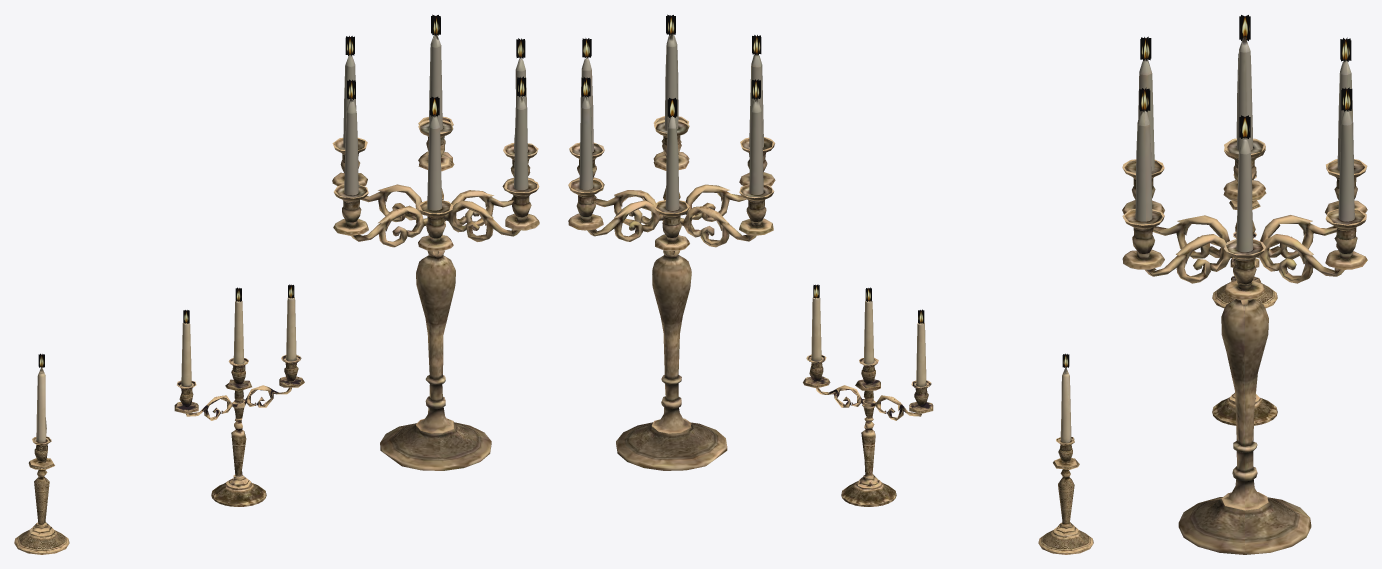
The model's file is candleholders.glb.
The picture shows the model from 3 angles, left to right: view 1: azimuth 30°, elevation 25°; view 2: azimuth 150°, elevation 25°; view 3: azimuth 270°, elevation 25°; orthographic projection. The views are drawn at different scales.
Parts seen in each view (by area): view 1: brass_candleholder_03, brass_candleholder_02, brass_candleholder_01; view 2: brass_candleholder_03, brass_candleholder_02, brass_candleholder_01; view 3: brass_candleholder_03, brass_candleholder_02, brass_candleholder_01.
Boxes of the visible parts, x1,y1,x2,y2 form: brass_candleholder_03: [332, 14, 539, 470]; brass_candleholder_02: [174, 284, 304, 506]; brass_candleholder_01: [14, 353, 69, 554]; brass_candleholder_03: [568, 14, 775, 470]; brass_candleholder_02: [803, 284, 933, 506]; brass_candleholder_01: [1038, 353, 1093, 554]; brass_candleholder_03: [1122, 15, 1367, 554]; brass_candleholder_02: [1212, 232, 1277, 425]; brass_candleholder_01: [1212, 174, 1277, 308].
Bounding box in the file's own units: 1.05 × 0.8353 × 0.3644.
Materials: 5 (5 with a texture image).
